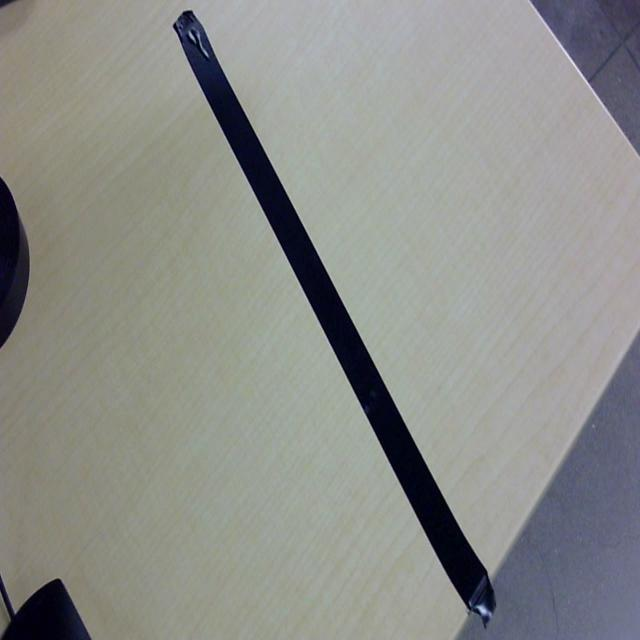tape: (175, 8, 497, 632)
